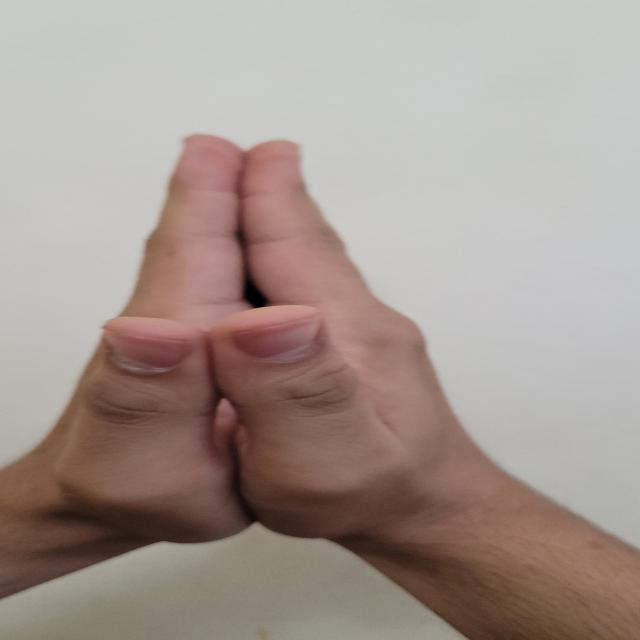Thank You: (68, 107, 448, 589)
